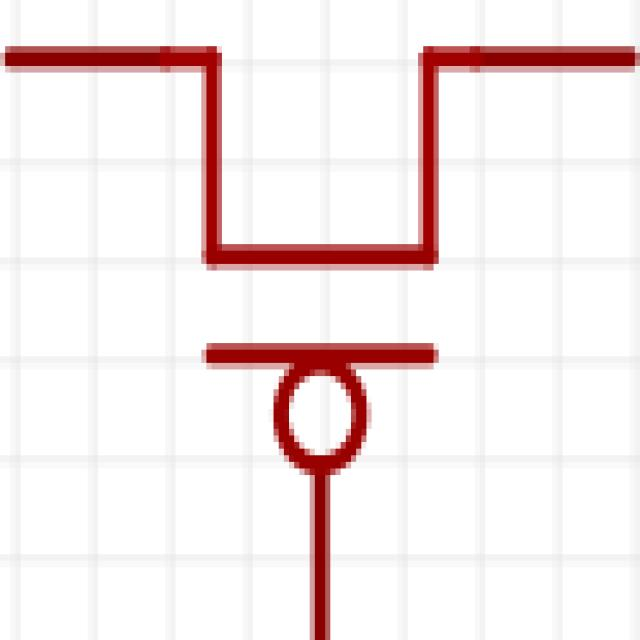pmos: (61, 10, 640, 640)
